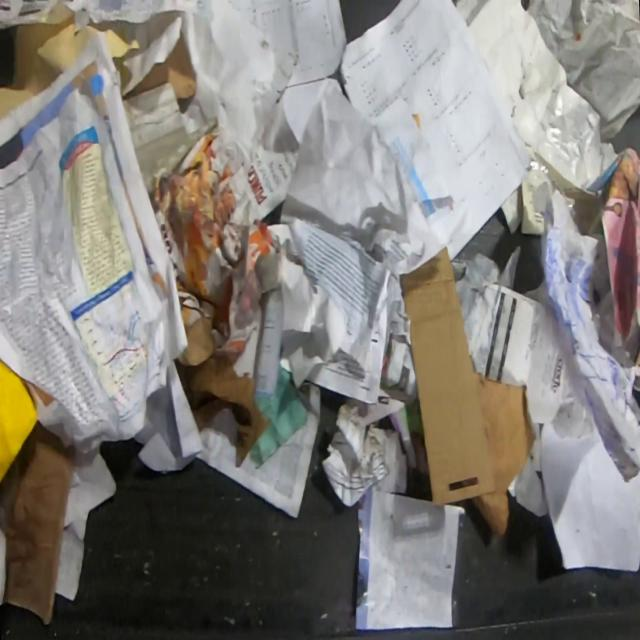cardboard: (400, 244, 496, 505), (0, 420, 75, 626), (471, 372, 538, 538), (122, 31, 197, 101)
